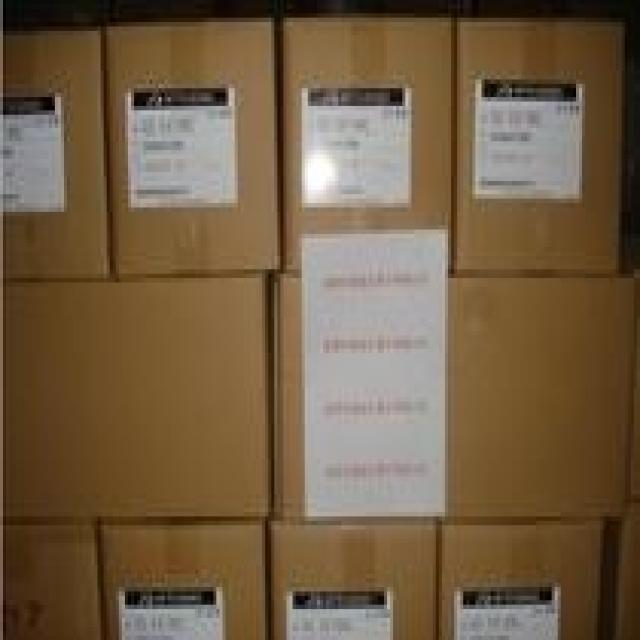box: (270, 270, 637, 518), (0, 274, 273, 521), (105, 17, 281, 278), (451, 16, 625, 275), (282, 15, 453, 274), (2, 26, 113, 280), (437, 514, 603, 636), (266, 518, 439, 635), (99, 522, 268, 636), (0, 516, 104, 636), (606, 503, 637, 636), (626, 269, 637, 500)
